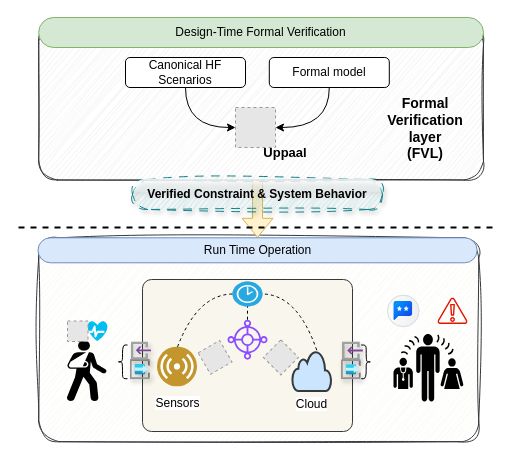
This 517x460 diagram has some shape labels left out. Grey dashed boxes stand in for pictures. The centre of each missing label's shape, as x and y in pixels:
Edge: point (247, 339)
Medical Staff: point (428, 367)
Patient: point (86, 370)
